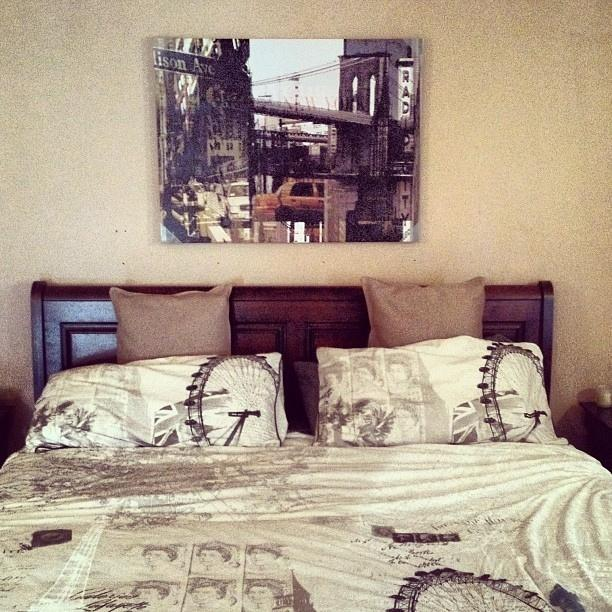car: (252, 182, 325, 224)
